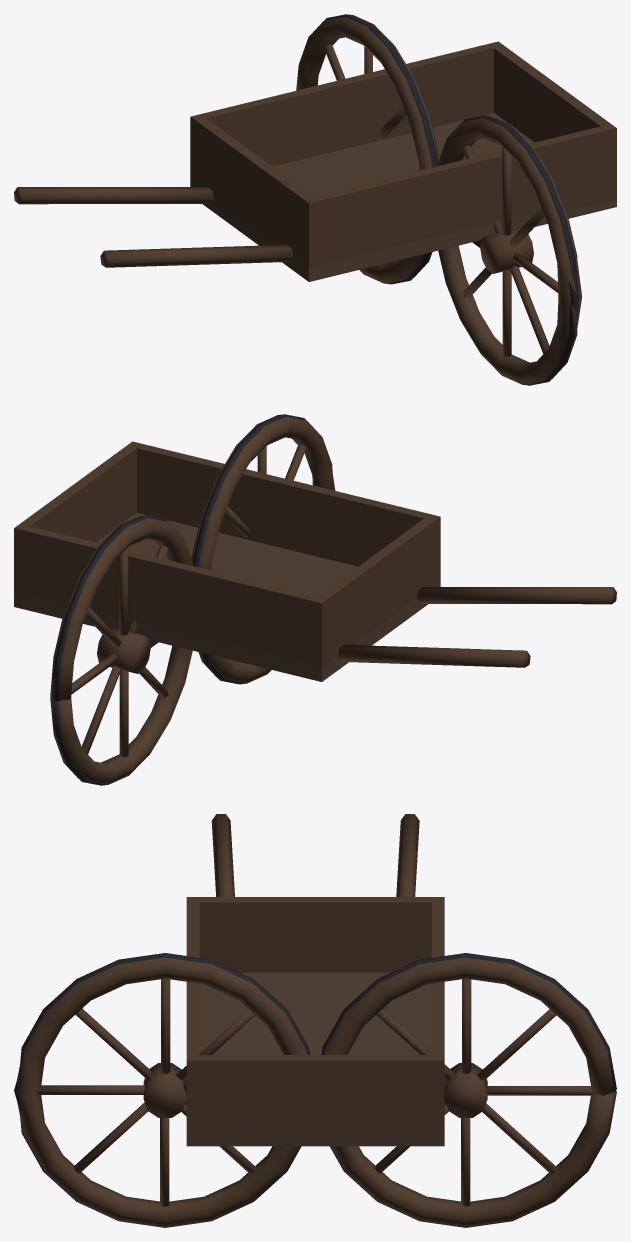
File: handcart.glb
3 views of the same model, one above another, from view 1: azimuth 30°, elevation 25°; view 2: azimuth 150°, elevation 25°; view 3: azimuth 270°, elevation 25° (orthographic). The views are drawn at different scales.
Visible parts, largest first — view 1: handcart; view 2: handcart; view 3: handcart.
Boxes of the visible parts, x1,y1,x2,y2 form: handcart: [14, 14, 616, 385]; handcart: [14, 414, 616, 785]; handcart: [14, 814, 616, 1227].
Bounding box in the file's own units: 1.45 × 0.7028 × 1.4.
